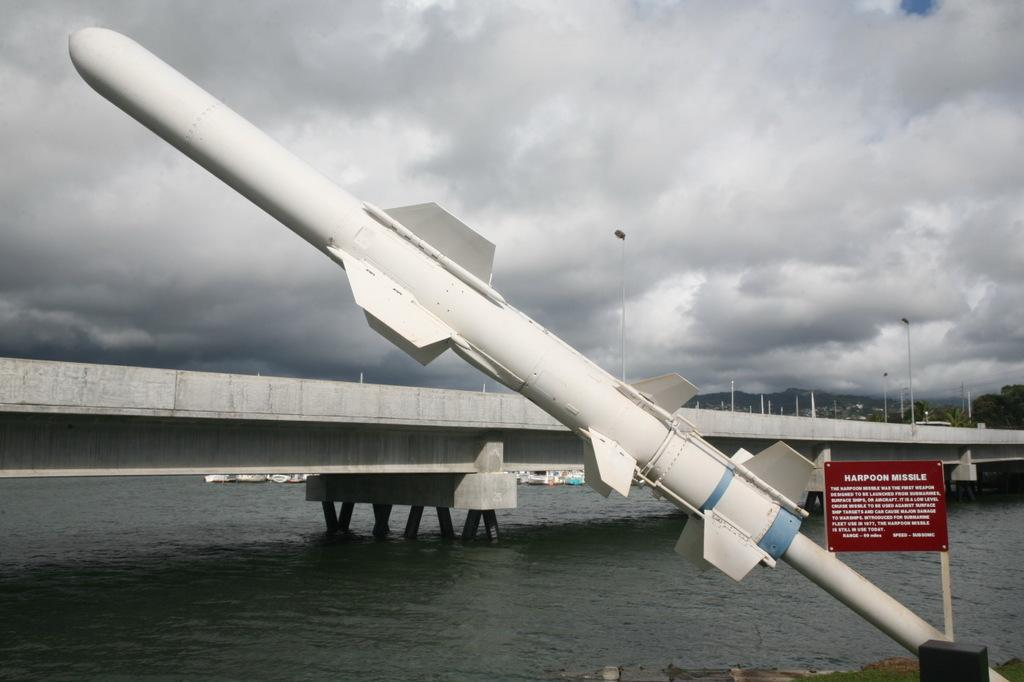Missile: (194, 49, 815, 616)
